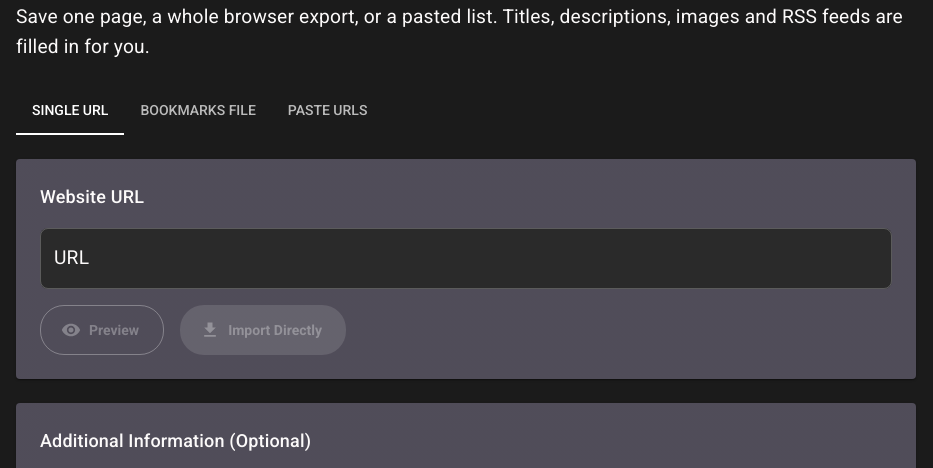
it: WebsiteImportPage › imports a website and shows the success message
Step 1. Type "  https://example.com  " into the field labelled "URL" → (466, 258), box [40, 228, 892, 289]
(page scrolled)
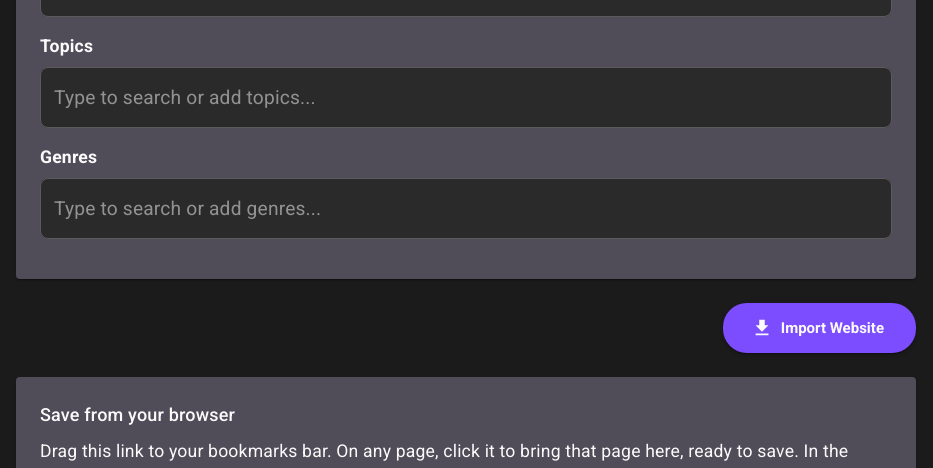
Step 2. Click the button "Import Website" → (819, 328), box [723, 303, 916, 353]
(page scrolled)
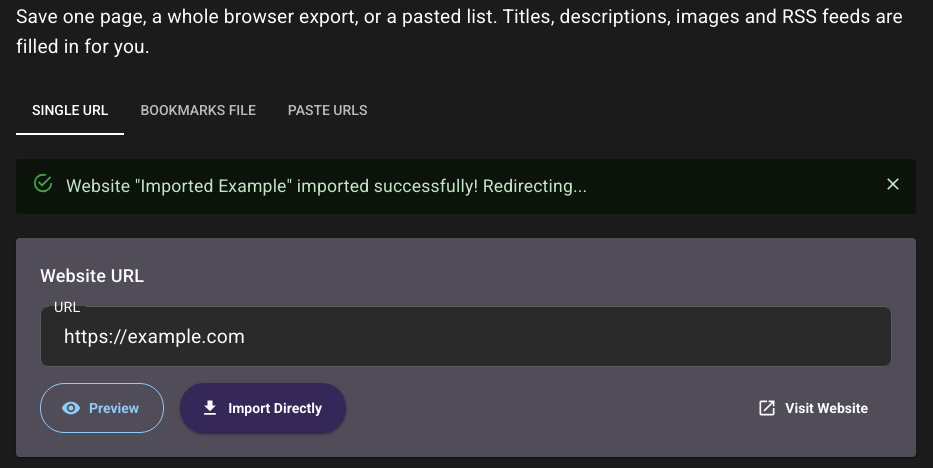
Now the text "imported successfully" is shown, box [66, 176, 587, 196]
